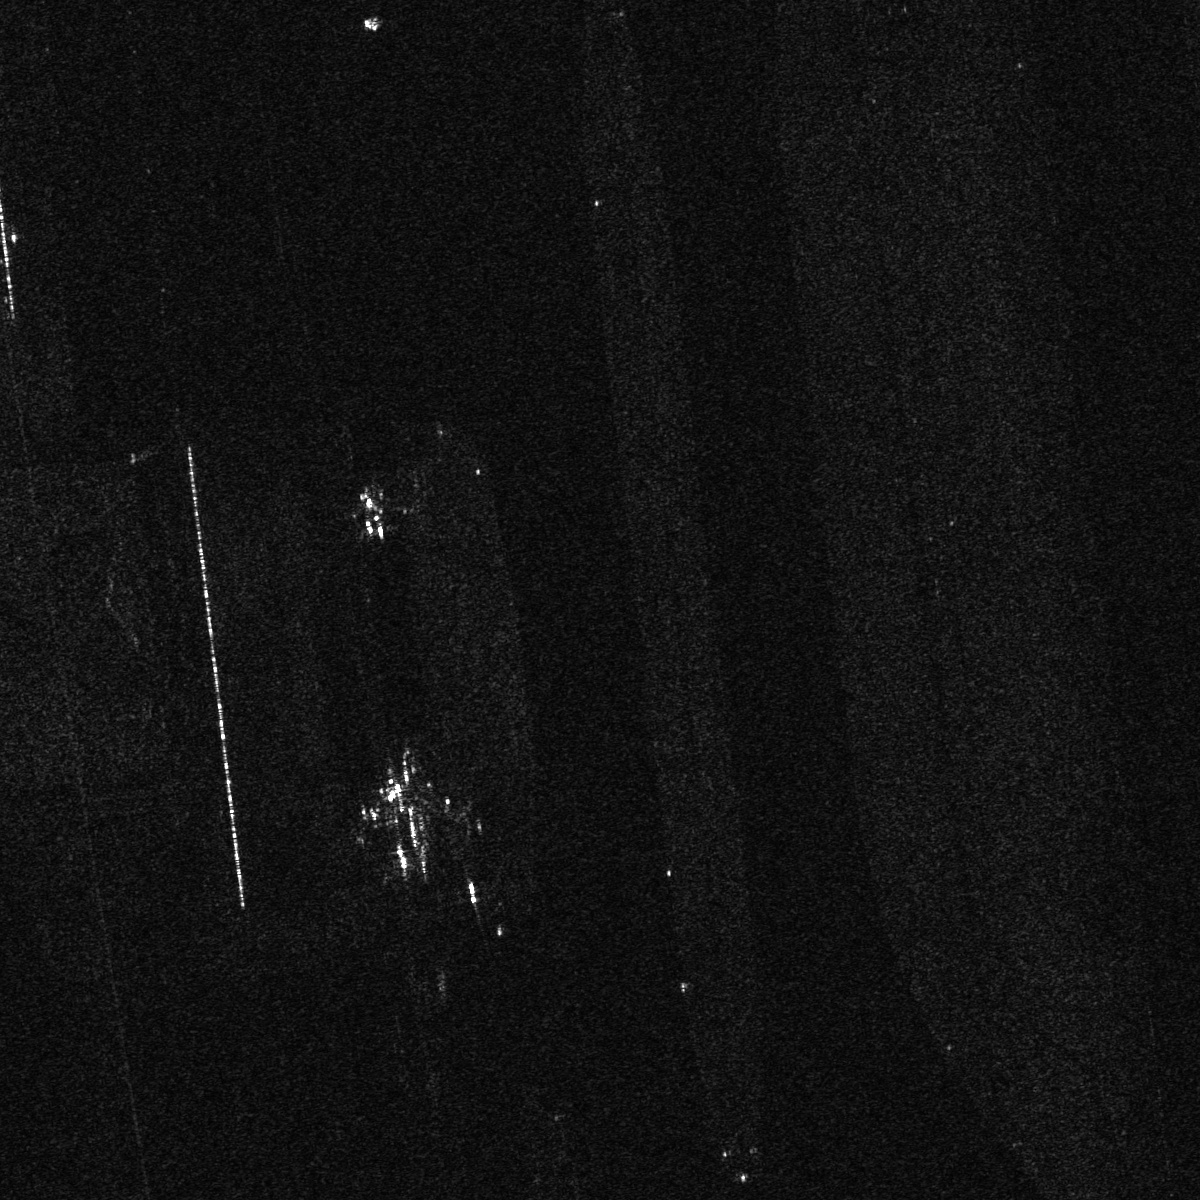A220: (329, 475, 408, 549)
other: (334, 755, 482, 887)
